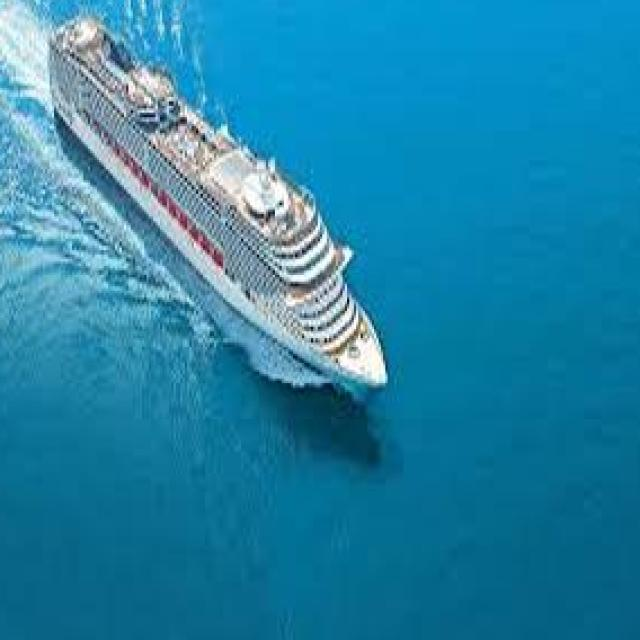passenger ship: (50, 10, 404, 391)
